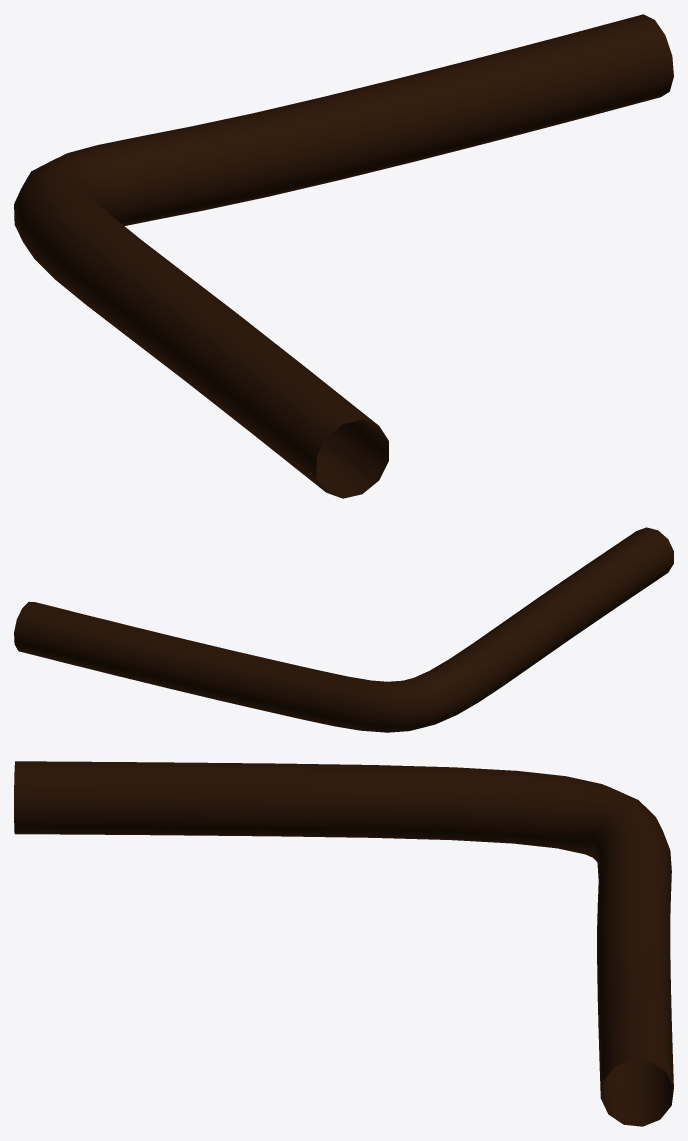
File: отввод.fbx
The picture shows the model from 3 angles, top to bottom: view 1: azimuth 30°, elevation 25°; view 2: azimuth 150°, elevation 25°; view 3: azimuth 270°, elevation 25°; orthographic projection. The views are drawn at different scales.
Visible parts, largest first — view 1: BezierCurve; view 2: BezierCurve; view 3: BezierCurve.
Boxes of the visible parts, x1,y1,x2,y2 form: BezierCurve: (14, 14, 673, 498); BezierCurve: (14, 527, 673, 732); BezierCurve: (14, 761, 673, 1126).
Size of the model in its own units: 188 by 25.57 by 178.
1 material, 1 textured.
